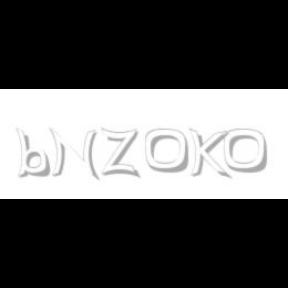K: (188, 128, 228, 180)
N: (48, 128, 97, 180)
O: (144, 128, 190, 174), (224, 128, 268, 174)
Z: (102, 128, 138, 178)
b: (15, 128, 53, 178)
